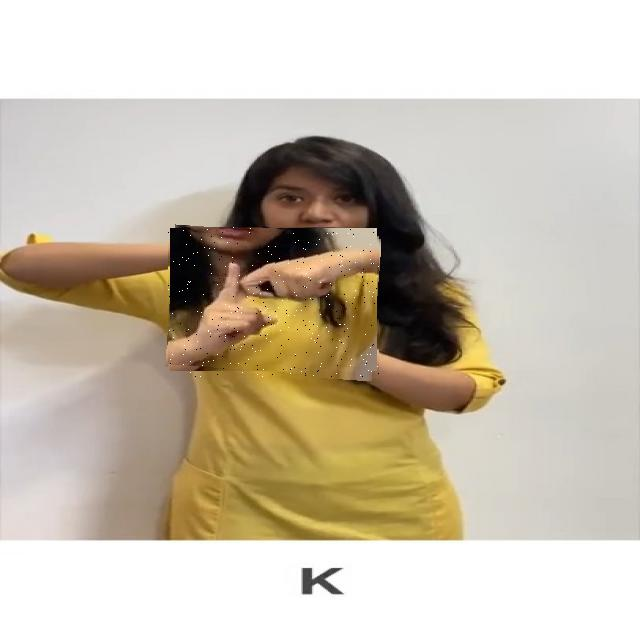K: (168, 228, 379, 378)
